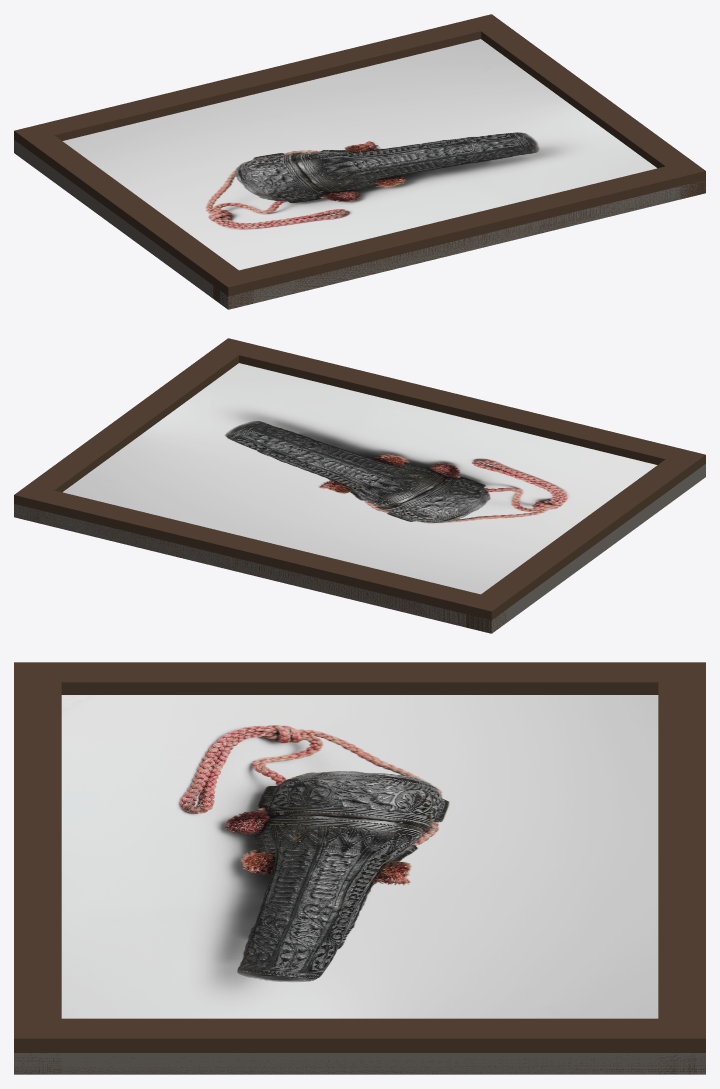
The model's file is framed_artwork.glb.
3 renders of one model, top to bottom at view 1: azimuth 30°, elevation 25°; view 2: azimuth 150°, elevation 25°; view 3: azimuth 270°, elevation 25°, orthographic. The views are drawn at different scales.
Visible parts, largest first — view 1: Artwork_Image_Front, Frame_Bottom, Frame_Top, Back_Board, Frame_Right, Frame_Left; view 2: Artwork_Image_Front, Frame_Top, Frame_Bottom, Back_Board, Frame_Left, Frame_Right; view 3: Artwork_Image_Front, Frame_Right, Frame_Left, Frame_Bottom, Frame_Top, Back_Board.
Part boxes in pixels (x1,y1,x2,y2): Artwork_Image_Front: [62, 39, 656, 270]; Frame_Bottom: [213, 166, 700, 308]; Frame_Top: [14, 14, 504, 162]; Back_Board: [14, 140, 705, 309]; Frame_Right: [466, 14, 705, 199]; Frame_Left: [21, 124, 253, 309]; Artwork_Image_Front: [63, 363, 657, 594]; Frame_Top: [14, 490, 506, 632]; Frame_Bottom: [214, 338, 705, 475]; Back_Board: [14, 464, 705, 633]; Frame_Left: [466, 448, 703, 633]; Frame_Right: [14, 338, 248, 522]; Artwork_Image_Front: [61, 695, 658, 1018]; Frame_Right: [14, 1018, 705, 1074]; Frame_Left: [14, 662, 705, 694]; Frame_Bottom: [14, 662, 61, 1074]; Frame_Top: [658, 662, 705, 1074]; Back_Board: [14, 1053, 705, 1074].
Size of the model in its own units: 2.24 by 0.1 by 1.74.
Materials: 3 (1 with a texture image).
